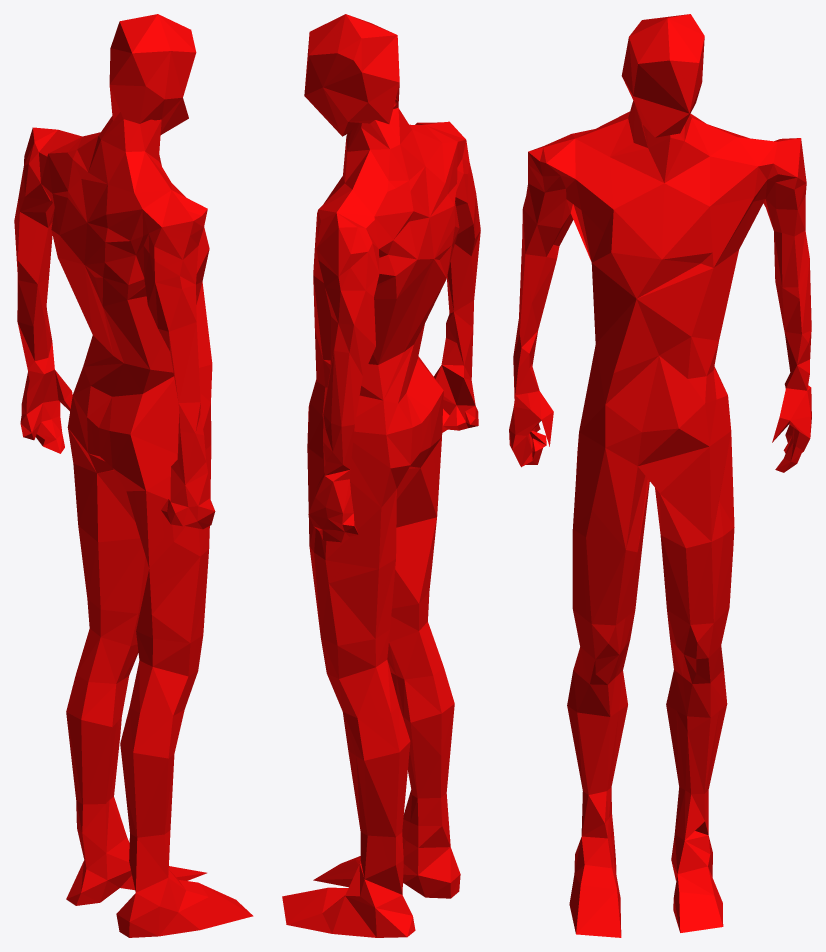
The model's file is bro fixed unrigged.fbx.
3 views of the same model, side by side, from view 1: azimuth 30°, elevation 25°; view 2: azimuth 150°, elevation 25°; view 3: azimuth 270°, elevation 25° (orthographic).
Parts seen in each view (by area): view 1: middle enemy; view 2: middle enemy; view 3: middle enemy.
Boxes of the visible parts, left/top/right/bottom form: middle enemy: left=14, top=14, right=253, bottom=937; middle enemy: left=282, top=14, right=480, bottom=937; middle enemy: left=509, top=14, right=811, bottom=937.
Bounding box in the file's own units: 116 × 696 × 214.
